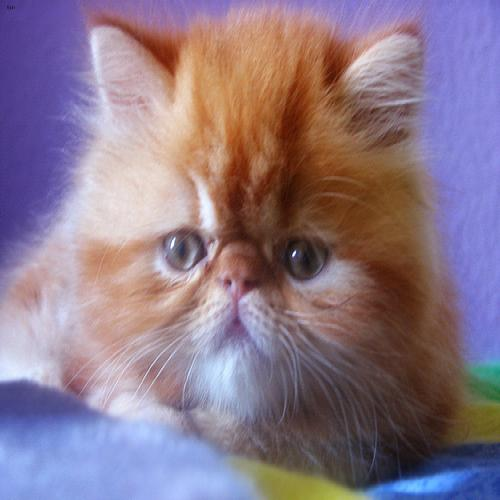persian: (58, 5, 428, 435)
